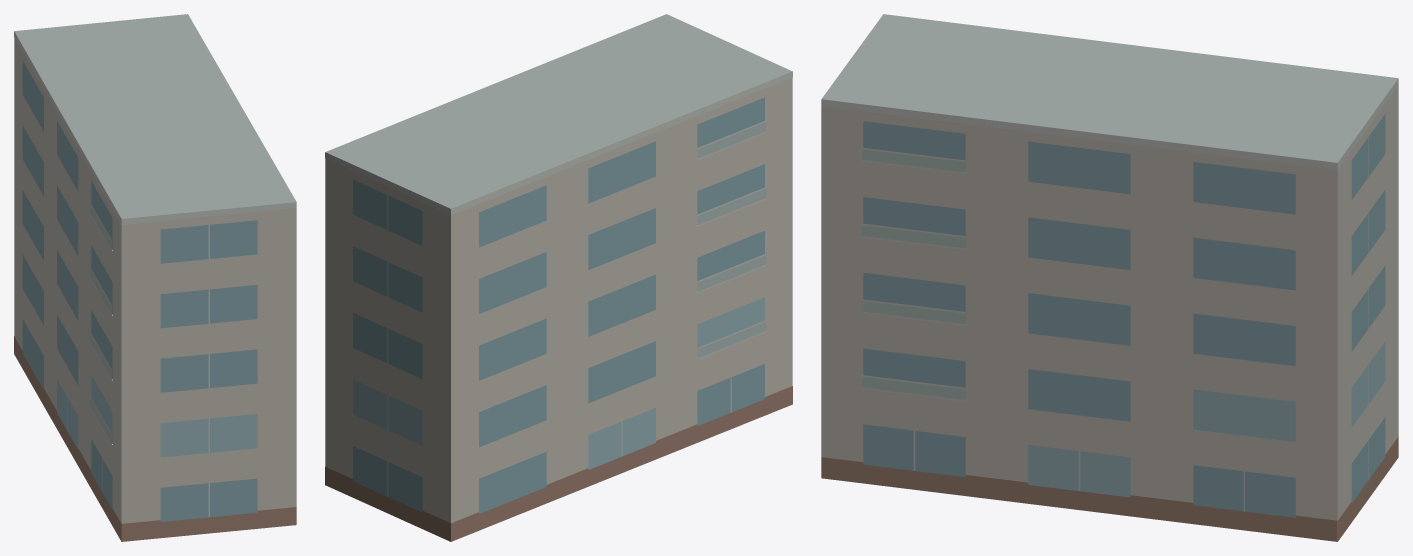
File: survey-upis-32973154.glb
The picture shows the model from 3 angles, left to right: view 1: azimuth 30°, elevation 25°; view 2: azimuth 150°, elevation 25°; view 3: azimuth 270°, elevation 25°; orthographic projection. The views are drawn at different scales.
Visible parts, largest first — view 1: survey-upis-32973154.tmp; view 2: survey-upis-32973154.tmp; view 3: survey-upis-32973154.tmp.
Boxes of the visible parts, x1,y1,x2,y2 form: survey-upis-32973154.tmp: (14, 14, 296, 541); survey-upis-32973154.tmp: (325, 14, 792, 541); survey-upis-32973154.tmp: (821, 14, 1398, 541).
Size of the model in its own units: 11.04 by 13.1 by 18.09.
